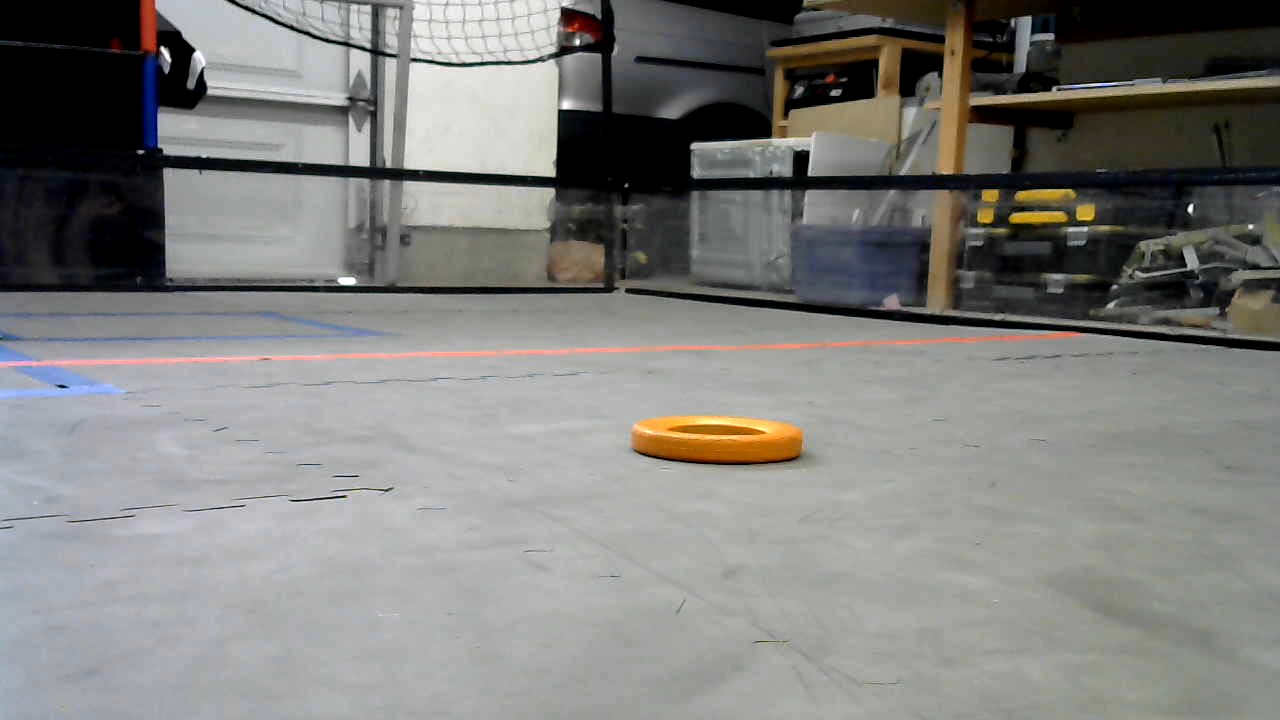OneStack: (633, 416, 803, 466)
